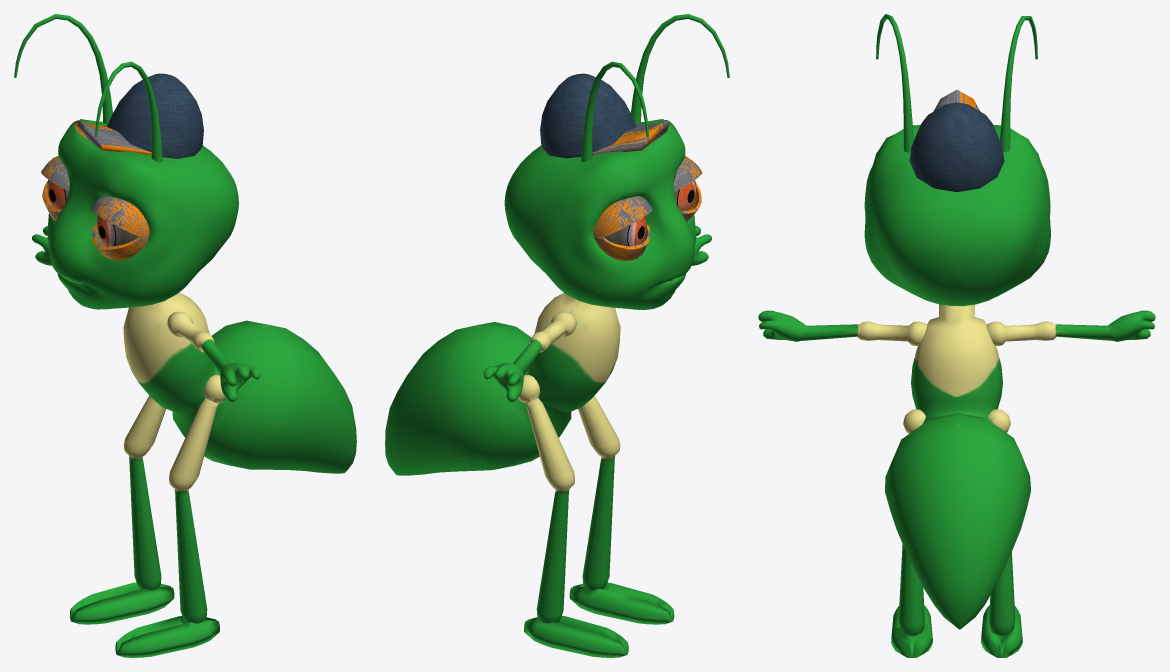
File: Ant.obj
3 renders of one model, left to right at view 1: azimuth 30°, elevation 25°; view 2: azimuth 150°, elevation 25°; view 3: azimuth 270°, elevation 25°, orthographic.
Visible parts, largest first — view 1: ANT.001_Sphere.011, Sphere_Sphere.001, eyelish.003_Sphere.008, eyeball.001_Sphere.006; view 2: ANT.001_Sphere.011, Sphere_Sphere.001, eyelish.003_Sphere.008, eyeball_Sphere.002; view 3: ANT.001_Sphere.011, Sphere_Sphere.001.
Boxes of the visible parts, x1,y1,x2,y2 form: ANT.001_Sphere.011: (14,14,356,657); Sphere_Sphere.001: (74,73,203,158); eyelish.003_Sphere.008: (41,156,149,260); eyeball.001_Sphere.006: (97,216,138,246); ANT.001_Sphere.011: (385,14,729,657); Sphere_Sphere.001: (540,73,669,158); eyelish.003_Sphere.008: (593,156,702,260); eyeball_Sphere.002: (604,216,646,246); ANT.001_Sphere.011: (758,14,1155,657); Sphere_Sphere.001: (909,89,1004,192).
Size of the model in its own units: 2.56 by 4.88 by 2.96.
8 materials, 6 textured.
